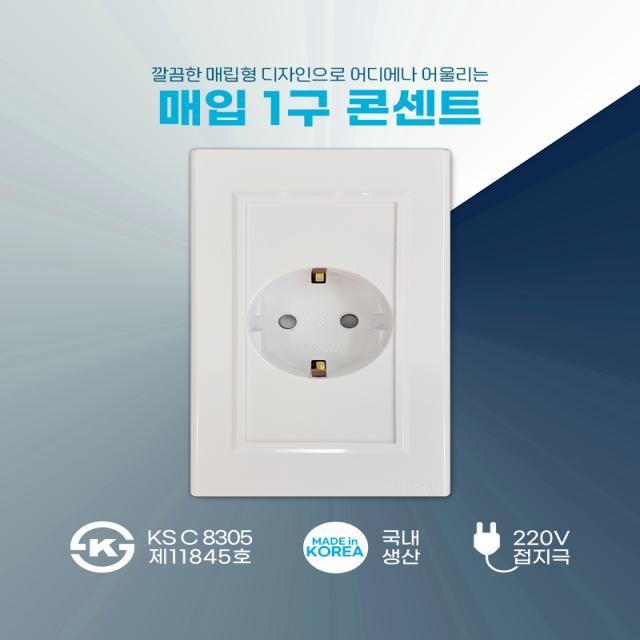typeb: (170, 136, 473, 511)
